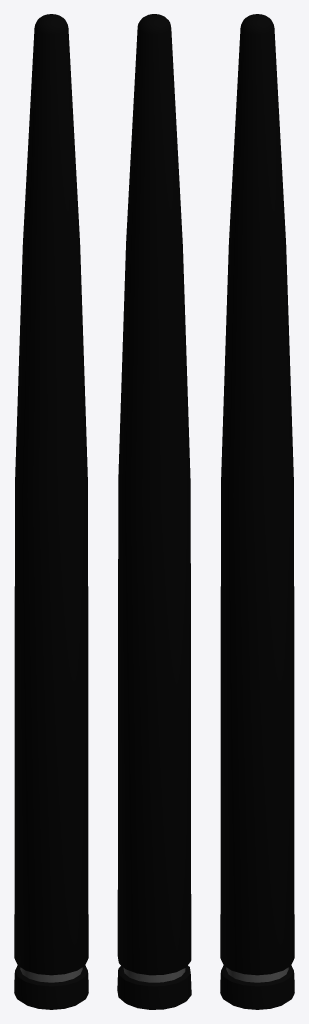
The model's file is stick.fbx.
3 views of the same model, side by side, from view 1: azimuth 90°, elevation 25°; view 2: azimuth 150°, elevation 25°; view 3: azimuth 270°, elevation 25° (orthographic).
Visible parts, largest first — view 1: stick; view 2: stick; view 3: stick.
Boxes of the visible parts, left/top/right/bottom form: stick: left=14, top=14, right=88, bottom=1009; stick: left=117, top=14, right=191, bottom=1009; stick: left=220, top=14, right=294, bottom=1009.
Size of the model in its own units: 2.56 by 37.19 by 2.56.
